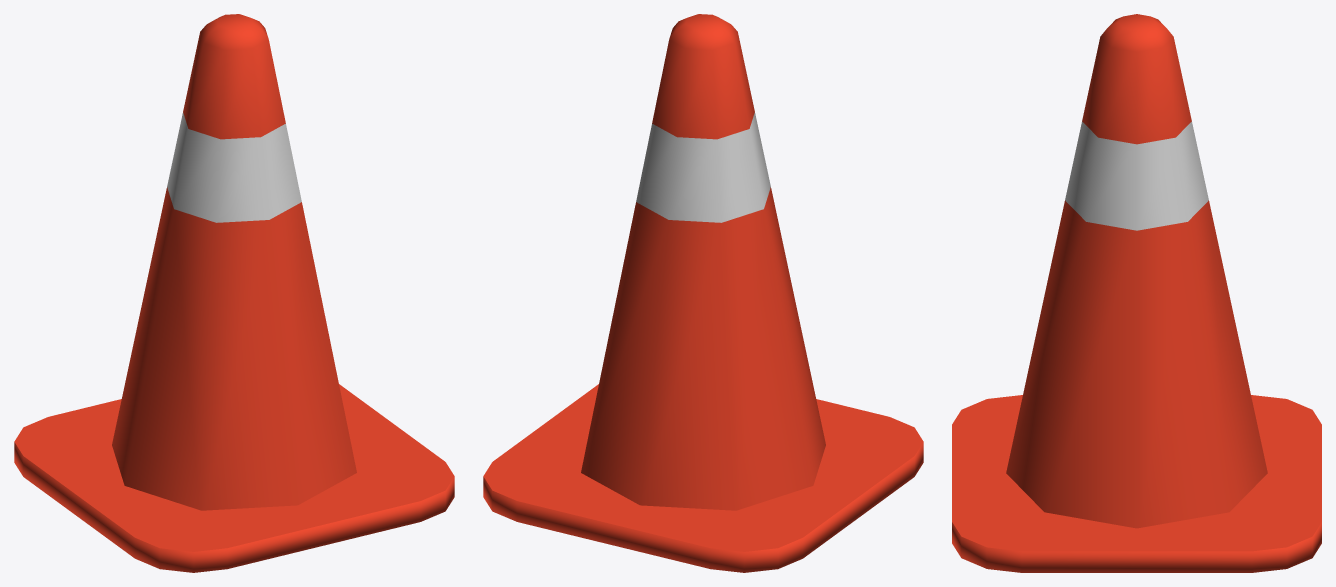
File: ConstructionCone_01.glb
3 views of the same model, side by side, from view 1: azimuth 30°, elevation 25°; view 2: azimuth 150°, elevation 25°; view 3: azimuth 270°, elevation 25° (orthographic). The views are drawn at different scales.
Parts seen in each view (by area): view 1: ConstructionCone_01; view 2: ConstructionCone_01; view 3: ConstructionCone_01.
Boxes of the visible parts, <box> form: ConstructionCone_01: <box>14,14,454,572</box>; ConstructionCone_01: <box>483,14,923,572</box>; ConstructionCone_01: <box>952,14,1321,572</box>.
Size of what is drawn, in the model's own units: 0.462 by 0.6515 by 0.462.
Materials: 1 (1 with a texture image).
